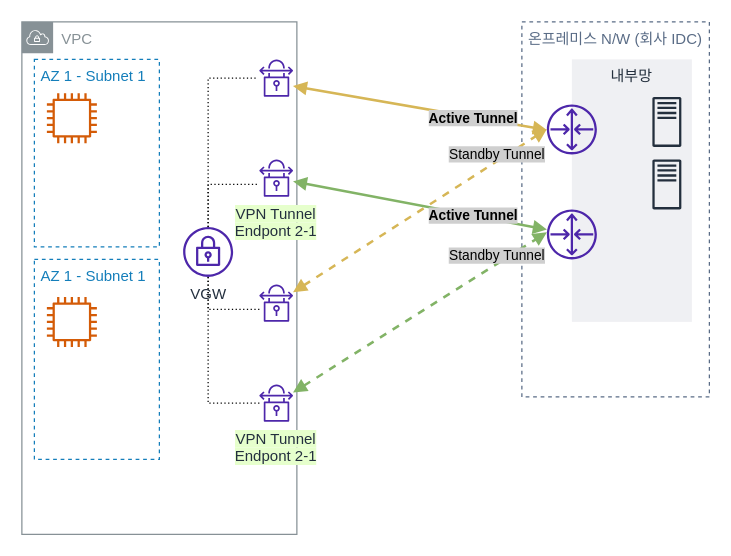
Some shapes in this 731 by 556 pixel diagram are drawn without their labels. Each missing label, with the centre of its shape:
"CGW Device 1" belongs at [571,129].
"CGW Device 2" belongs at [571,234].
"VPN Tunnel Endpont 1-1" belongs at [275,77].
"VPN Tunnel Endpont 1-2" belongs at [275,302].
